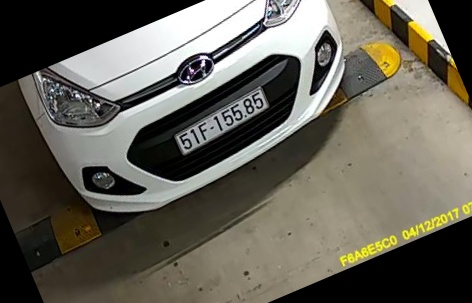plate: (166, 83, 270, 158)
